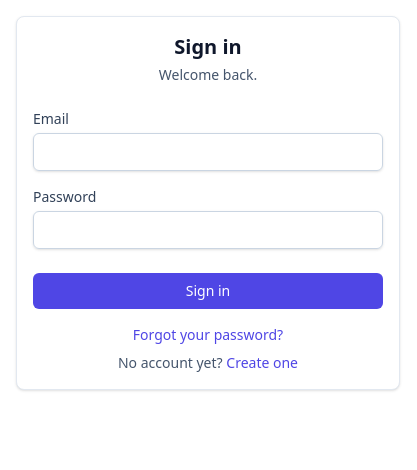
LoginPage › shows the backend's error message on invalid credentials and stays on the page
The image size is (417, 470).
In the field labelled "Email": [208, 152] box [33, 133, 383, 171], type "ada@example.com"
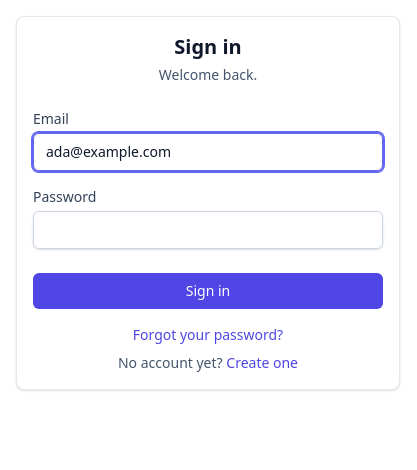
In the password field labelled "Password": [208, 230] box [33, 211, 383, 249], type "wrong-password"
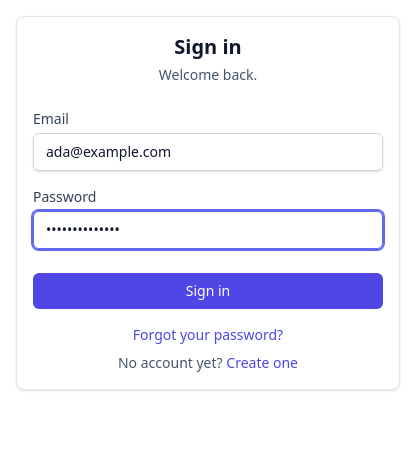
Click the button "Sign in": [208, 291] box [33, 273, 383, 309]
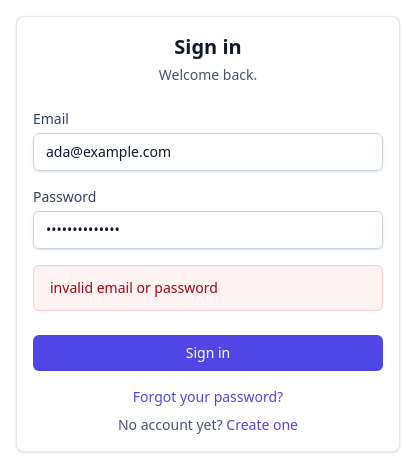
Expected: the button "Sign in" is shown, [33, 335, 383, 371]
Result: the message reads "invalid email or password" at [50, 278, 218, 297]
